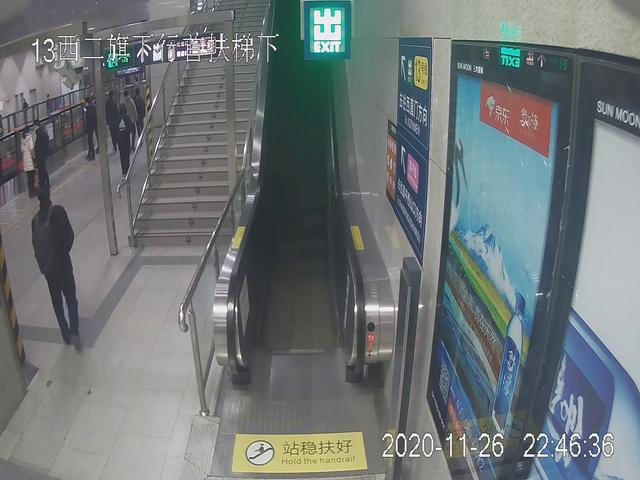person: (28, 184, 87, 353), (30, 122, 57, 200), (112, 103, 136, 181), (21, 121, 37, 200), (81, 93, 95, 160)
